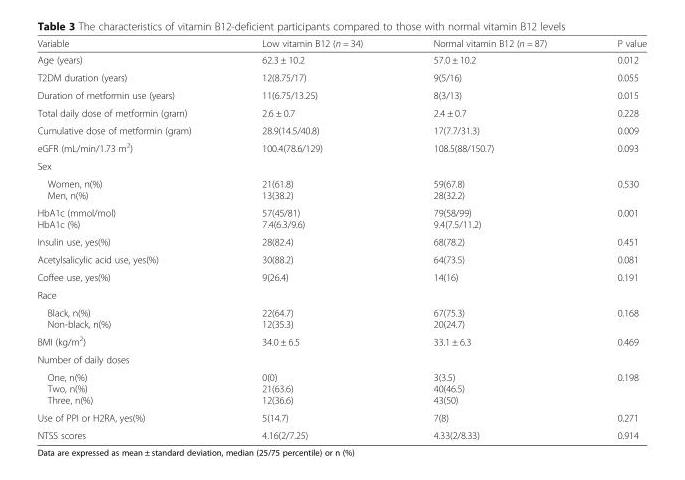table: (36, 37, 646, 440)
table column: (36, 37, 226, 440), (397, 37, 581, 440), (226, 37, 397, 440), (581, 37, 646, 440)
table column header: (36, 37, 646, 51)
table projected row header: (36, 156, 646, 174), (36, 285, 646, 303), (36, 350, 646, 368)
table row: (36, 368, 646, 408), (36, 174, 646, 203), (36, 203, 646, 232), (36, 303, 646, 331), (36, 331, 646, 350), (36, 85, 646, 103), (36, 103, 646, 121), (36, 138, 646, 156), (36, 156, 646, 174), (36, 232, 646, 250), (36, 250, 646, 268), (36, 285, 646, 303), (36, 350, 646, 368), (36, 408, 646, 426), (36, 51, 646, 68), (36, 68, 646, 85), (36, 121, 646, 138), (36, 268, 646, 285), (36, 37, 646, 51), (36, 426, 646, 440)
